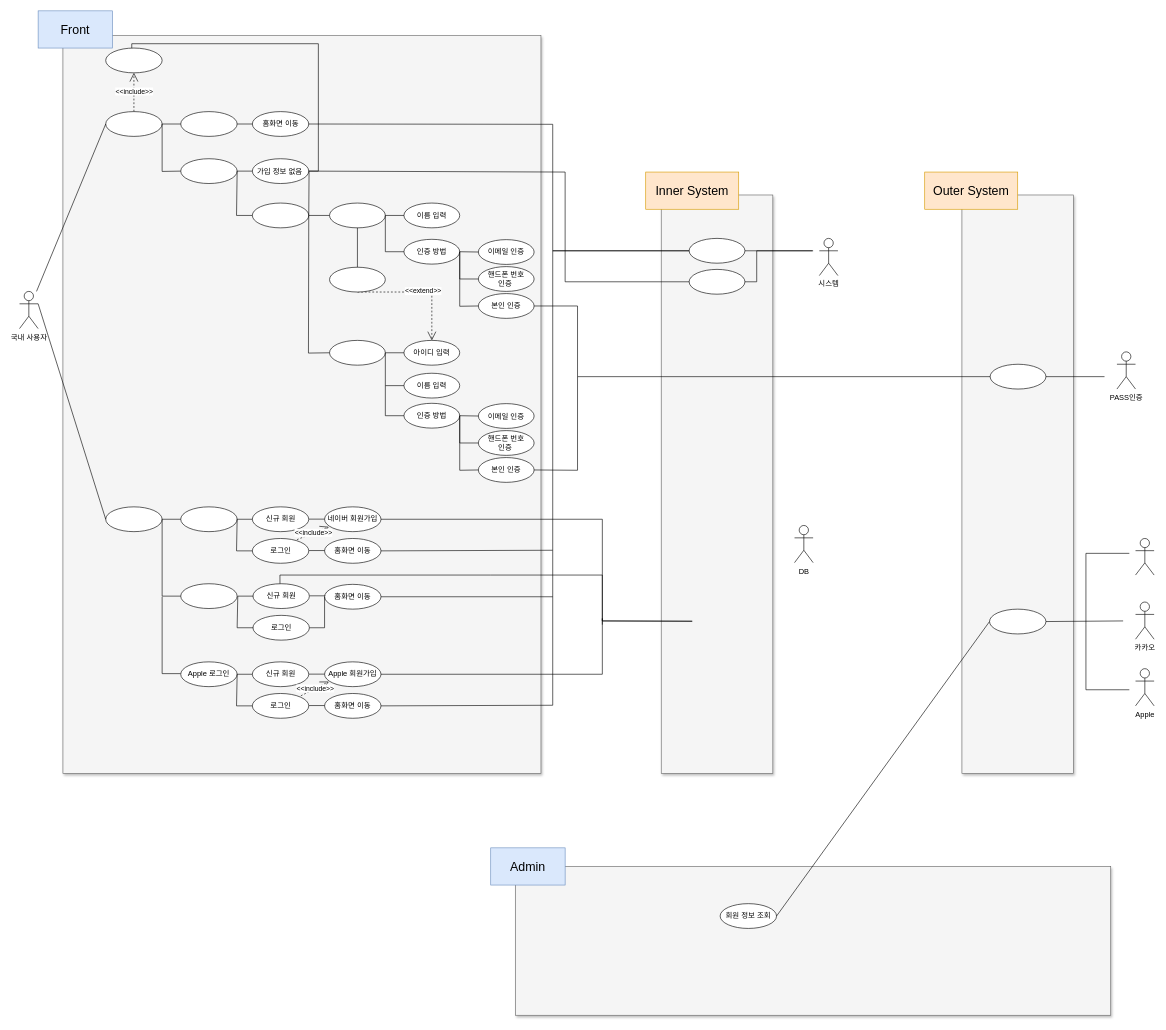
Some shapes in this 1166 by 1030 pixel diagram are drawn without their labels. Here are the shapes that lost their labels. From the top down, the centre of each, then its label:
At (133,60): "회원가입".
At (133,123): "일반 로그인".
At (208,123): "로그인 성공".
At (208,171): "로그인 실패".
At (280,215): "정보 오기입 알림".
At (357,215): "아아디 찾기".
At (717,250): "화면 이동".
At (357,279): "아이디 모를 때".
At (717,281): "알림 보내기".
At (357,352): "비밀번호 찾기".
At (1018,376): "통신사 인증".
At (133,519): "소셜 로그인".
At (208,519): "네이버 로그인".
At (1144,556): "네이버".
At (208,596): "카카오 로그인".
At (1017,621): "사이트 회원 인증".
